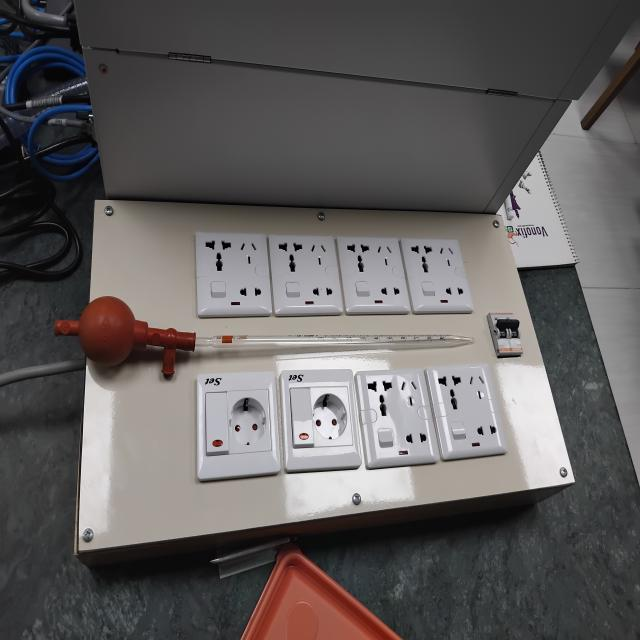Volumetric_Pipet: (28, 257, 490, 395)
